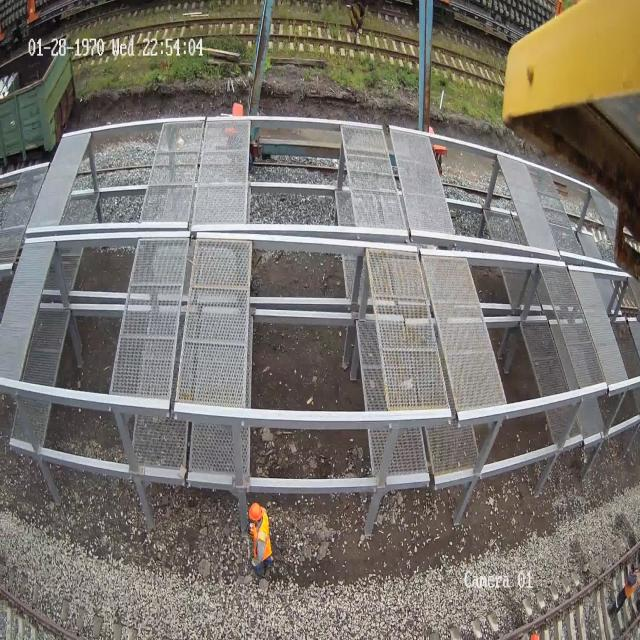Helmet: (248, 501, 262, 521)
Person: (248, 501, 273, 576), (607, 562, 640, 617)
